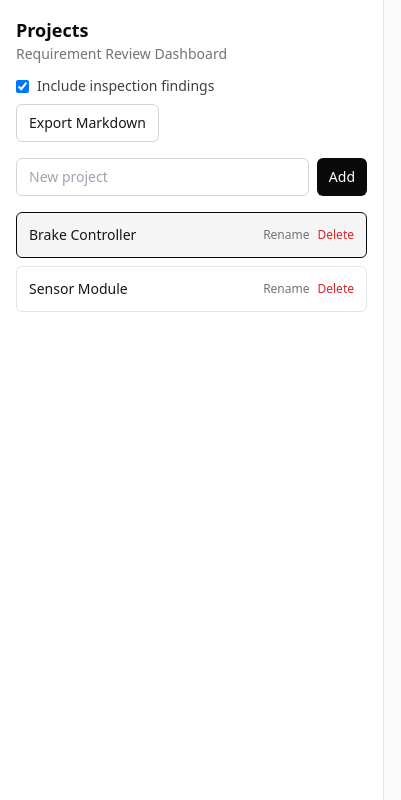
it: ProjectList › creates, renames, deletes, and highlights projects
The image size is (401, 800).
Expected: the button "Brake Controller" is shown, [29,225,255,245]
Type "Alpha" into the field named "Project name".
click(162, 177); type("Alpha")  # box [16,158,309,196]
Click the button "Add".
click(342, 177)  # box [317,158,367,196]
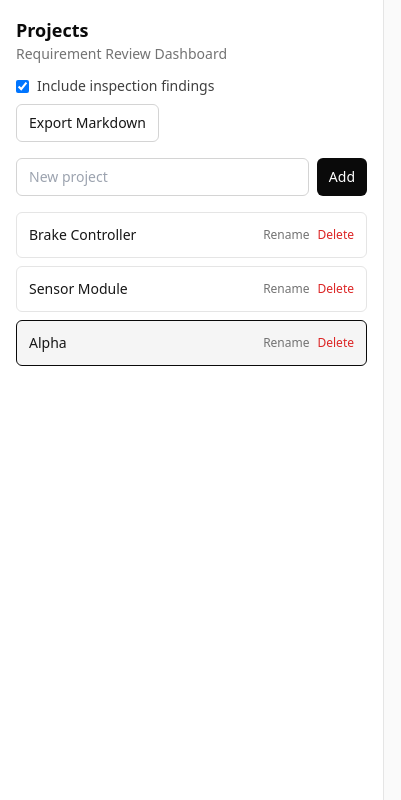
Result: the button "Alpha" is shown at [29,333,255,353]
Click the 3rd button "Rename".
click(286, 343)  # box [263,335,310,351]
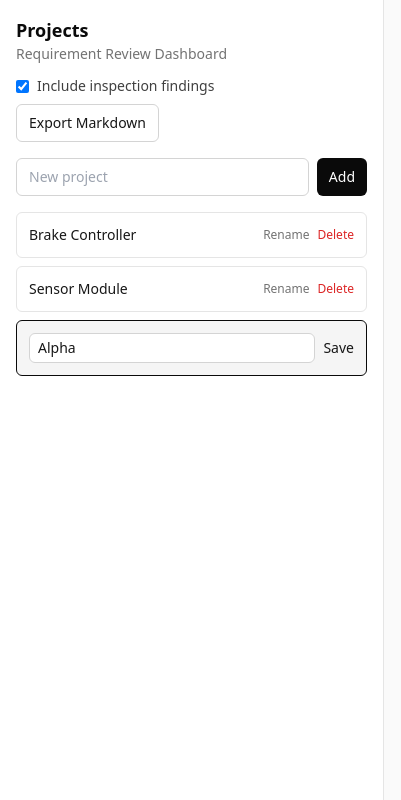
Replace the text in the field named "Rename Alpha" with "Gamma" at (172, 348), box [29,333,315,363]
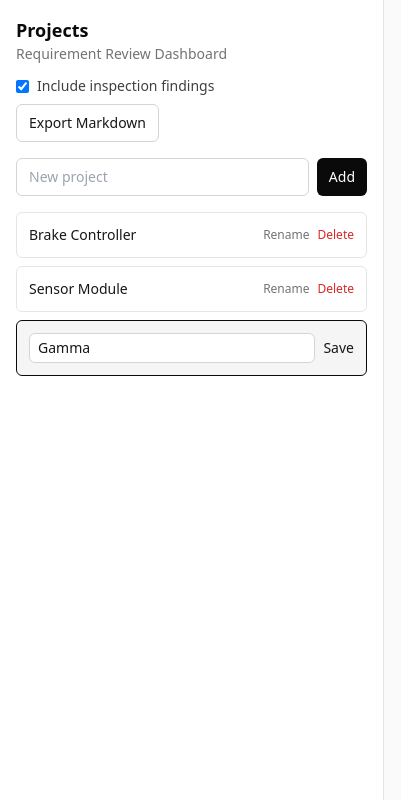
Click the button "Save".
click(339, 348)  # box [323,333,354,363]
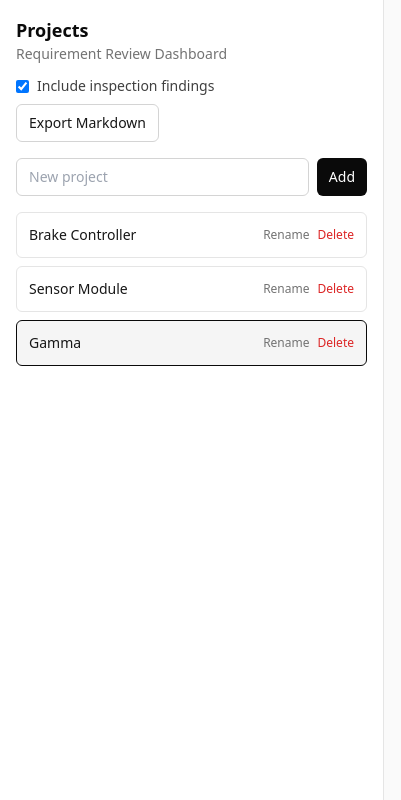
Result: the button "Gamma" is shown at [29,333,255,353]
Click the button "Sensor Module".
click(142, 289)  # box [29,279,255,299]
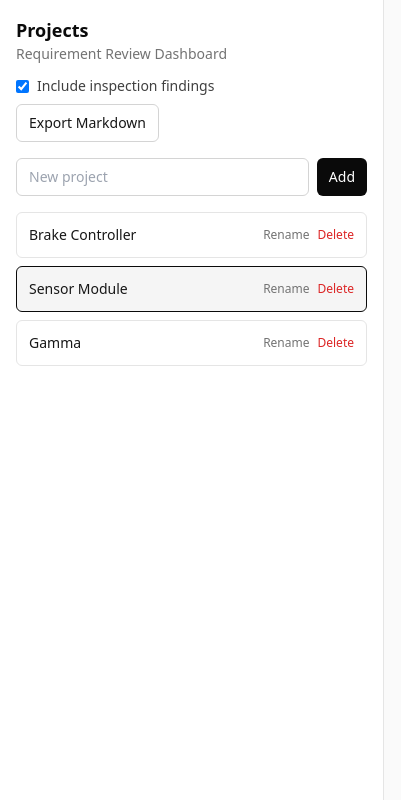
Click the 3rd button "Delete".
click(336, 343)  # box [318,335,354,351]
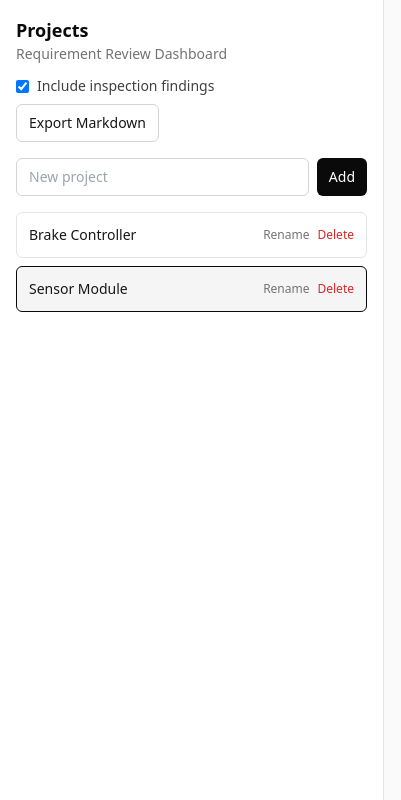
Result: the button "Gamma" is gone
